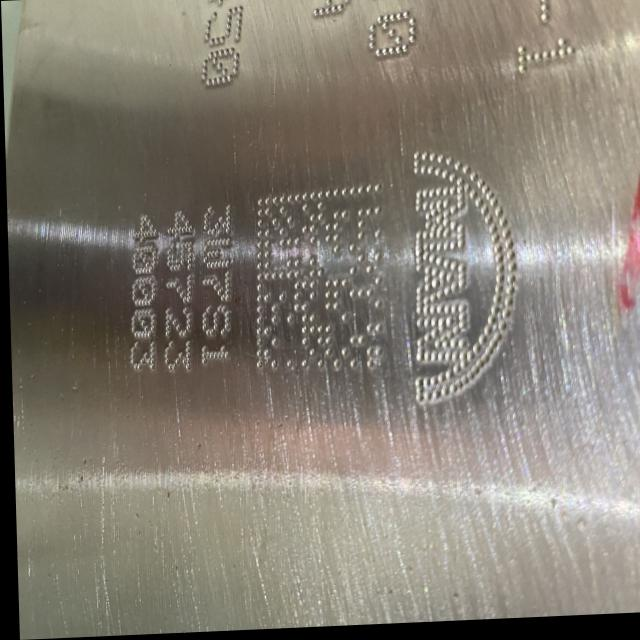dmc: (254, 186, 379, 370)
